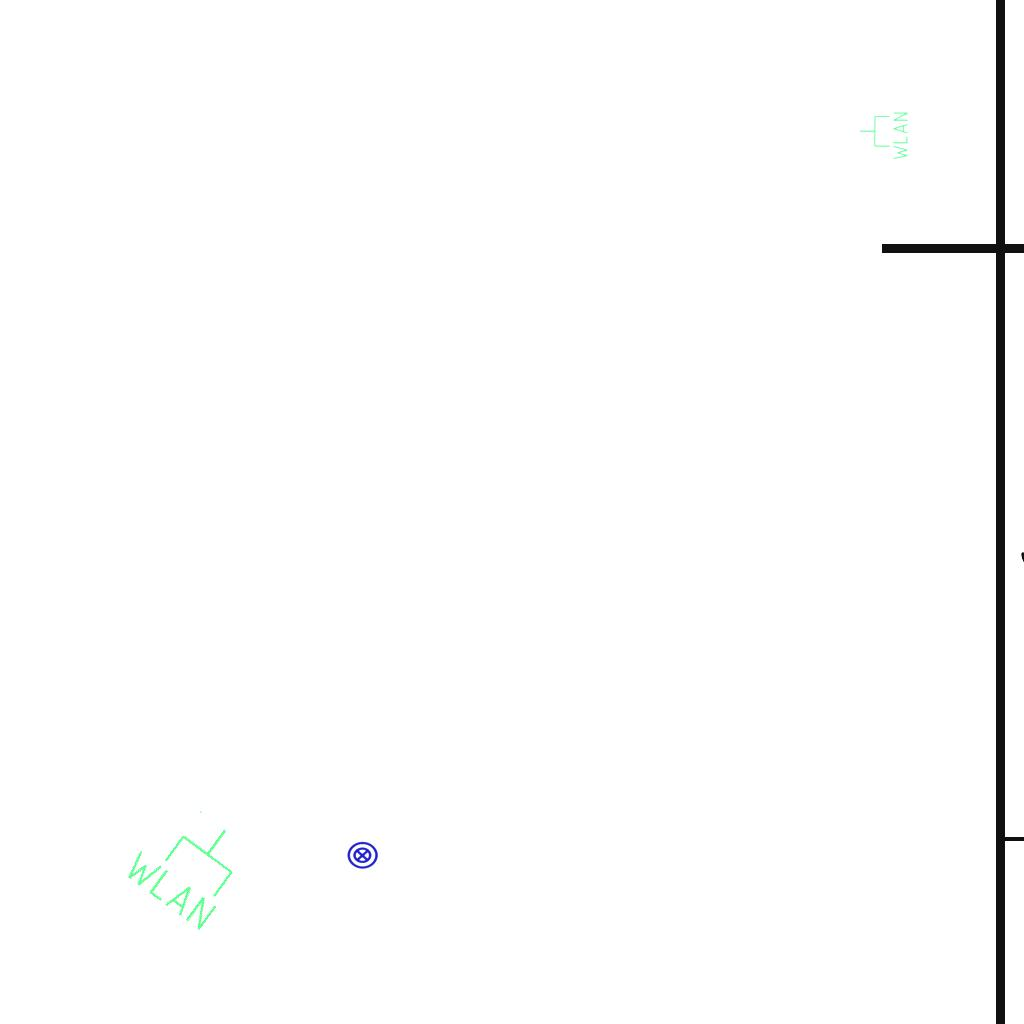Taster_beleuchtet: (346, 839, 379, 872)
WLAN: (115, 790, 263, 937), (858, 110, 910, 162)
